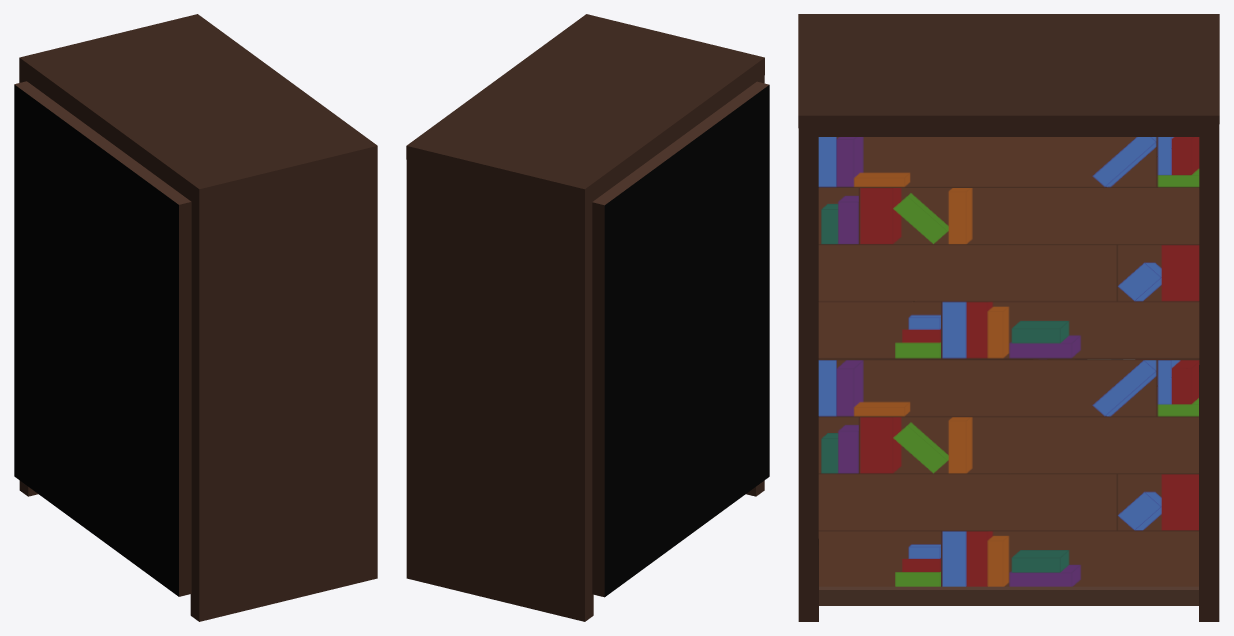
The model's file is ShelfRight.dae.
3 renders of one model, left to right at view 1: azimuth 30°, elevation 25°; view 2: azimuth 150°, elevation 25°; view 3: azimuth 270°, elevation 25°, orthographic. The views are drawn at different scales.
Visible parts, largest first — view 1: ShelfRight; view 2: ShelfRight; view 3: ShelfRight.
Part boxes in pixels (x1,y1,x2,y2): ShelfRight: (14,14,377,621); ShelfRight: (406,14,769,621); ShelfRight: (798,14,1219,621).
Bounding box in the file's own units: 2.14 × 3.5 × 4.64.
Materials: 1 (1 with a texture image).
